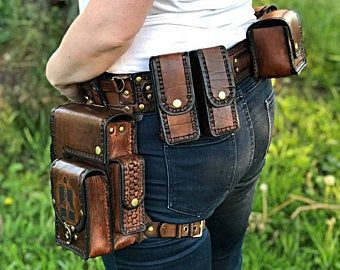cuero: (49, 8, 308, 260)
